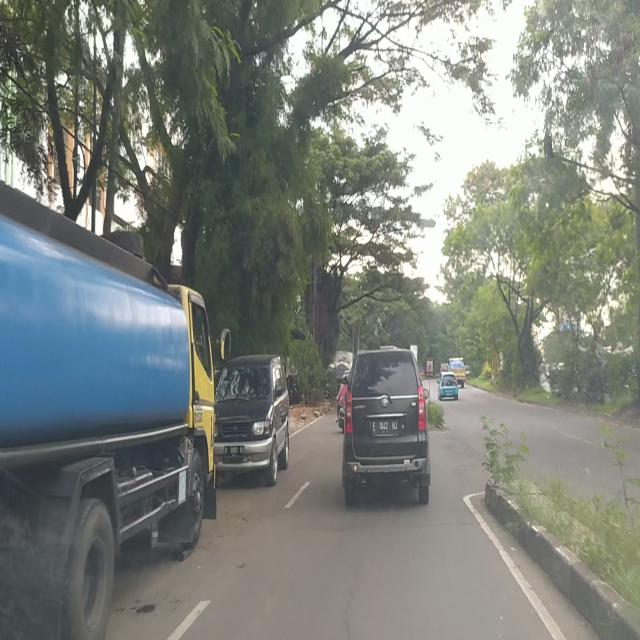Sewer Cover: (297, 522, 478, 530)
